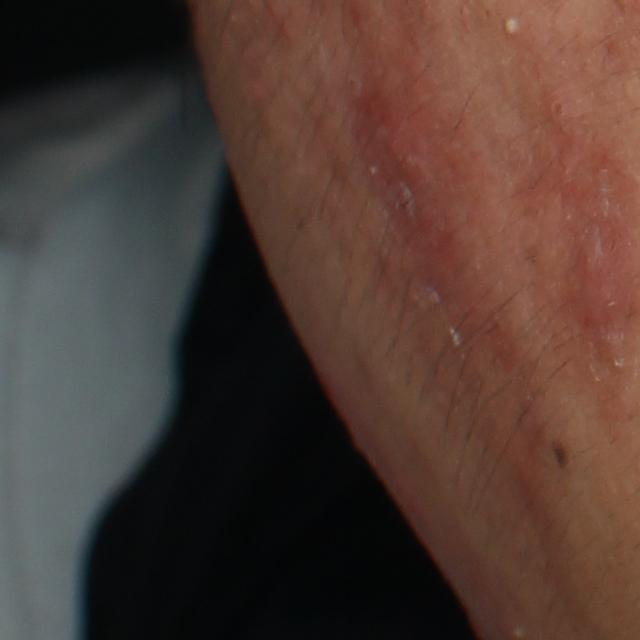nevus: (552, 437, 570, 471)
pustule: (492, 5, 531, 43)
